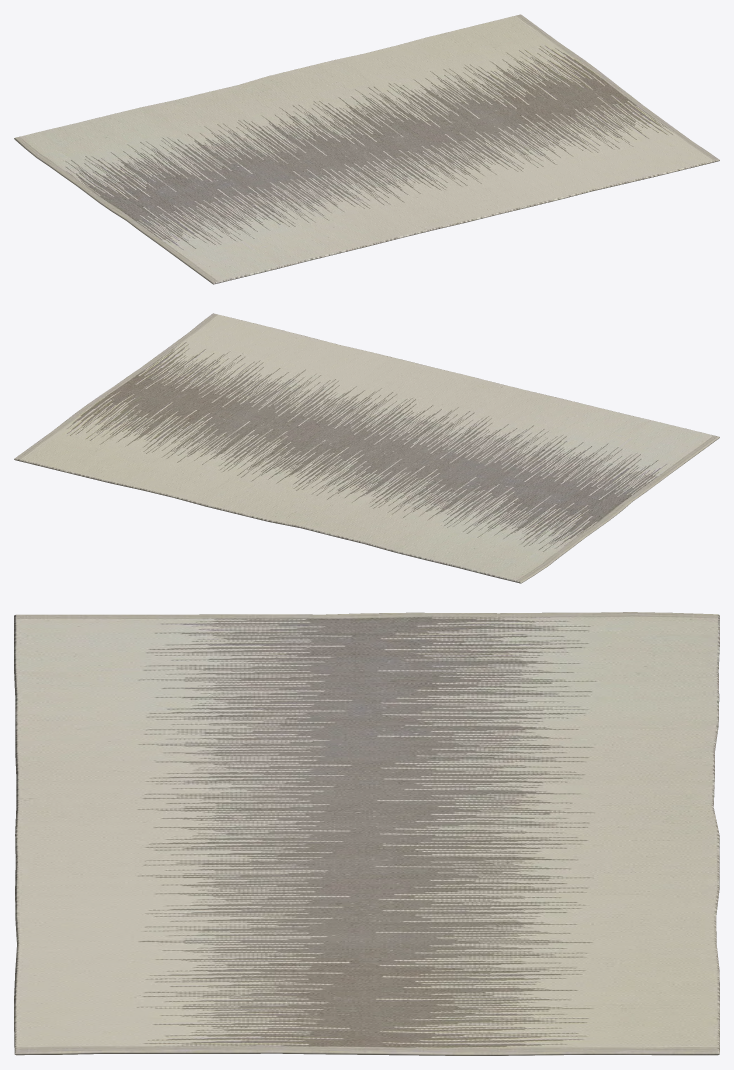
3 views of the same model, one above another, from view 1: azimuth 30°, elevation 25°; view 2: azimuth 150°, elevation 25°; view 3: azimuth 270°, elevation 25° (orthographic). The views are drawn at different scales.
Visible parts, largest first — view 1: RootNode; view 2: RootNode; view 3: RootNode.
Boxes of the visible parts, bbox=[...] form: RootNode: bbox=[14, 14, 719, 284]; RootNode: bbox=[14, 313, 719, 583]; RootNode: bbox=[14, 612, 719, 1055].
Size of the model in its own units: 1.82 by 0.00665 by 1.23.
Materials: 1 (1 with a texture image).
